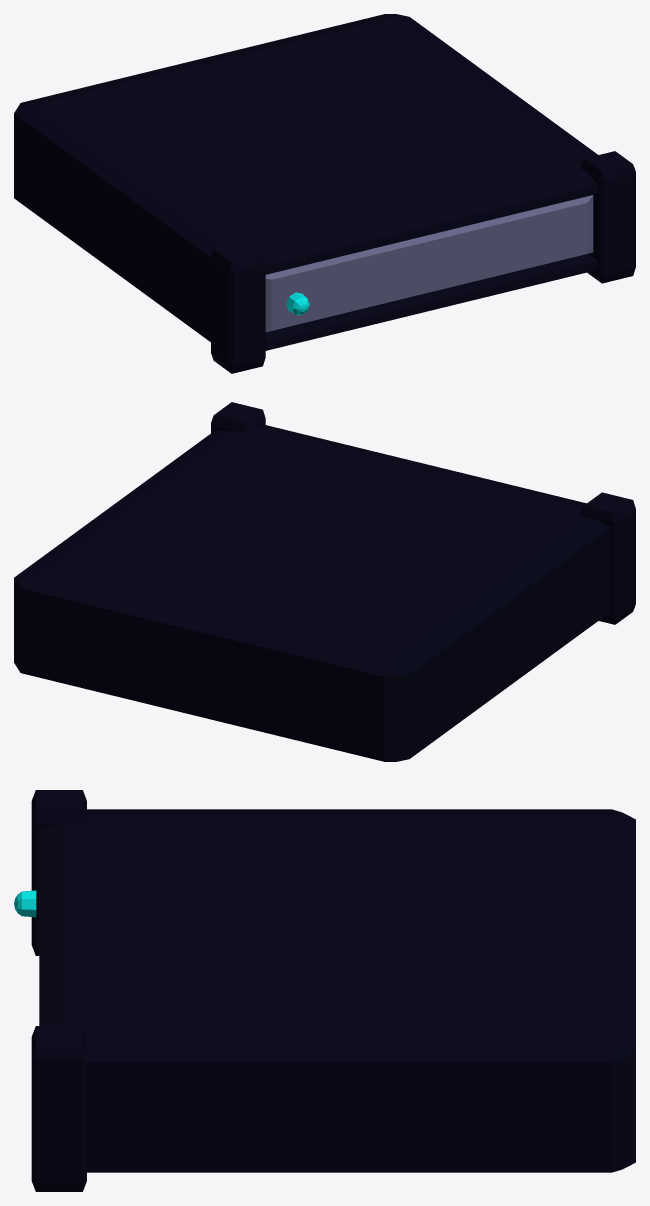
Rendered from server.fbx.
3 views of the same model, one above another, from view 1: azimuth 30°, elevation 25°; view 2: azimuth 150°, elevation 25°; view 3: azimuth 270°, elevation 25° (orthographic). The views are drawn at different scales.
Visible parts, largest first — view 1: Cube, Cube.002, Cube.001; view 2: Cube, Cube.002, Cube.001; view 3: Cube, Cube.001, Cube.002.
Boxes of the visible parts, x1,y1,x2,y2 form: Cube: (14,14,597,350); Cube.002: (211,241,265,373); Cube.001: (581,151,635,283); Cube: (14,424,610,761); Cube.002: (581,492,635,624); Cube.001: (211,402,265,432); Cube: (39,809,635,1172); Cube.001: (31,1026,86,1191); Cube.002: (31,790,86,955).
Size of the model in its own units: 206 by 53.99 by 208.
